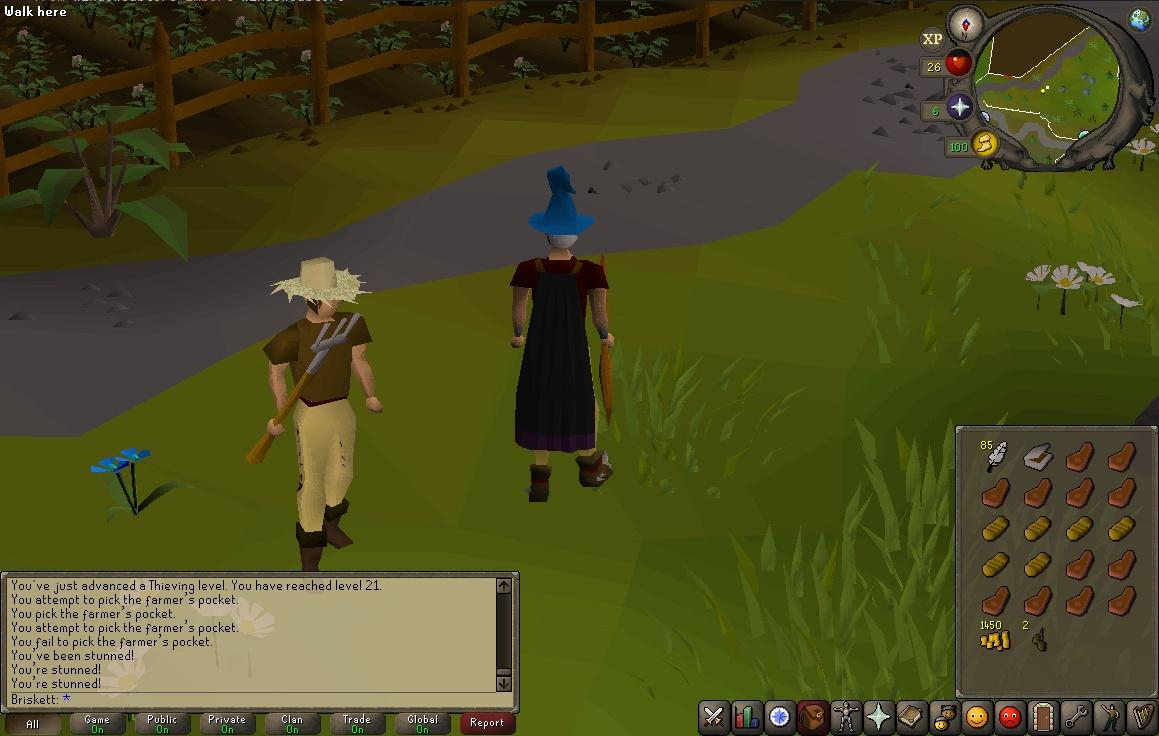Farmer: (260, 256, 384, 572)
